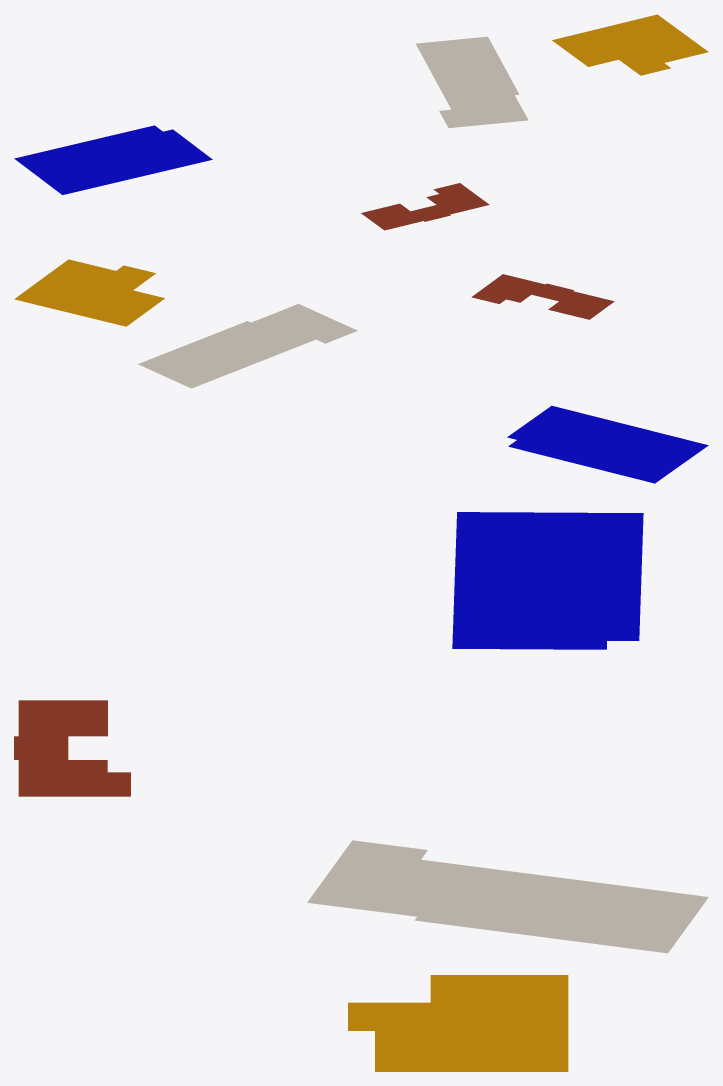
The model's file is Anchors.fbx.
The picture shows the model from 3 angles, top to bottom: view 1: azimuth 30°, elevation 25°; view 2: azimuth 150°, elevation 25°; view 3: azimuth 270°, elevation 25°; orthographic projection. The views are drawn at different scales.
Parts seen in each view (by area): view 1: plane_2, plane_1, plane_4, plane_3; view 2: plane_2, plane_1, plane_4, plane_3; view 3: plane_2, plane_1, plane_4, plane_3.
Boxes of the visible parts, <box> form: plane_2: <box>14,125,212,194</box>; plane_1: <box>416,36,528,127</box>; plane_4: <box>552,14,708,75</box>; plane_3: <box>361,183,489,230</box>; plane_2: <box>507,405,708,483</box>; plane_1: <box>138,304,357,388</box>; plane_4: <box>14,259,164,326</box>; plane_3: <box>471,274,614,319</box>; plane_2: <box>452,512,643,649</box>; plane_1: <box>307,840,708,953</box>; plane_4: <box>348,975,568,1071</box>; plane_3: <box>14,700,130,796</box>.
Size of the model in its own units: 608 by 6.22 by 312.
